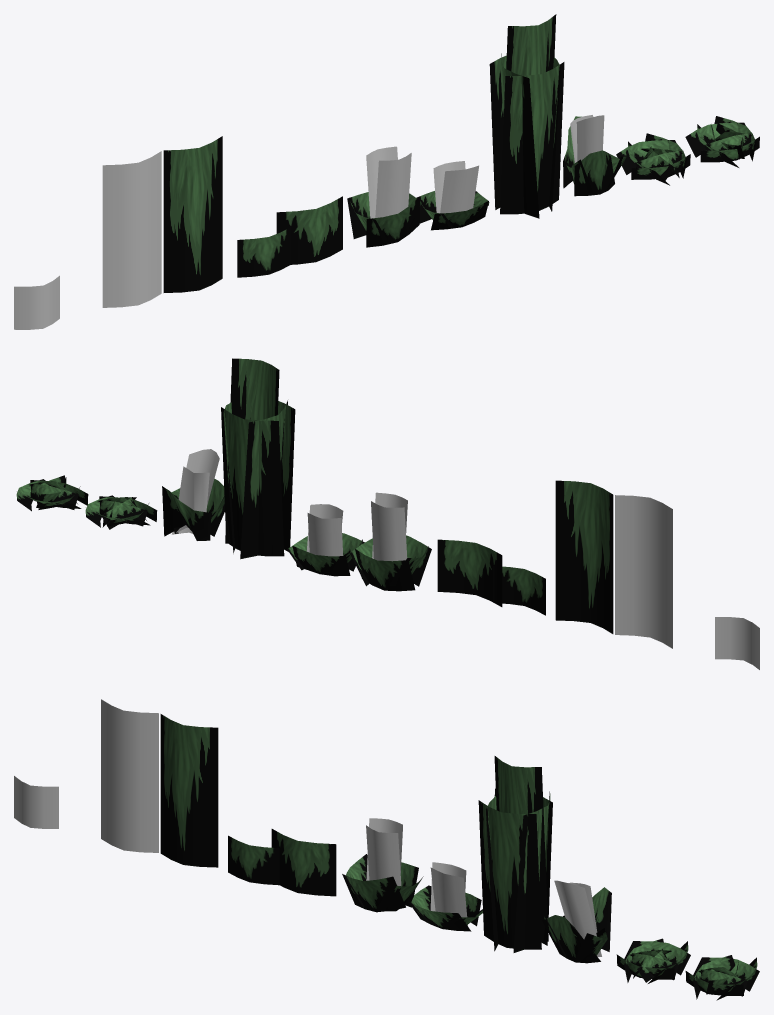
The model's file is Grass.fbx.
The picture shows the model from 3 angles, top to bottom: view 1: azimuth 30°, elevation 25°; view 2: azimuth 150°, elevation 25°; view 3: azimuth 330°, elevation 25°; orthographic projection. The views are drawn at different scales.
Parts seen in each view (by area): view 1: grass8, grass2, grass1, grass7, grass5, grass4, grass3, grass11, grass6, grass10, grass9; view 2: grass8, grass1, grass2, grass7, grass5, grass3, grass4, grass9, grass10, grass11, grass6; view 3: grass8, grass1, grass2, grass7, grass5, grass4, grass3, grass6, grass11, grass10, grass9.
Part boxes in pixels (bbox=[...]): grass8: bbox=[489, 14, 564, 218]; grass2: bbox=[102, 151, 161, 307]; grass1: bbox=[163, 136, 222, 292]; grass7: bbox=[347, 146, 421, 247]; grass5: bbox=[563, 115, 626, 196]; grass4: bbox=[416, 161, 489, 230]; grass3: bbox=[276, 196, 342, 264]; grass11: bbox=[685, 116, 759, 167]; grass6: bbox=[616, 133, 690, 185]; grass10: bbox=[237, 227, 290, 277]; grass9: bbox=[14, 275, 59, 329]; grass8: bbox=[221, 358, 295, 559]; grass1: bbox=[555, 480, 613, 633]; grass2: bbox=[615, 495, 672, 648]; grass7: bbox=[350, 492, 431, 591]; grass5: bbox=[162, 449, 224, 540]; grass3: bbox=[437, 539, 502, 606]; grass4: bbox=[287, 504, 364, 576]; grass9: bbox=[715, 617, 759, 669]; grass10: bbox=[493, 566, 545, 615]; grass11: bbox=[16, 475, 88, 511]; grass6: bbox=[85, 495, 157, 529]; grass8: bbox=[478, 756, 552, 952]; grass1: bbox=[160, 714, 218, 867]; grass2: bbox=[101, 699, 158, 852]; grass7: bbox=[342, 818, 423, 912]; grass5: bbox=[542, 880, 611, 963]; grass4: bbox=[408, 862, 482, 931]; grass3: bbox=[271, 829, 336, 896]; grass6: bbox=[616, 938, 690, 983]; grass11: bbox=[685, 955, 759, 1000]; grass10: bbox=[228, 835, 279, 885]; grass9: bbox=[14, 776, 58, 828].
Size of the model in its own units: 1816 by 439 by 192.
